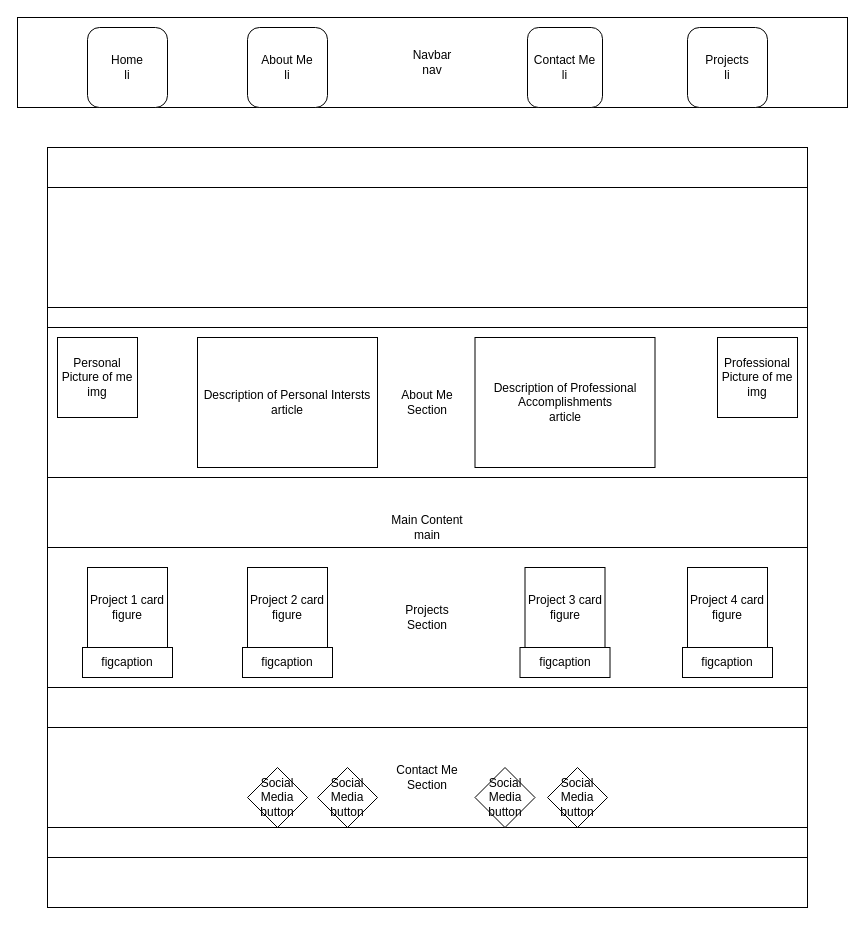
Some shapes in this 865 by 925 pixel diagram are drawn without their labels. Here are the shapes that lost their labels. From the top down, the centre of each, then its label:
At point (427, 247): "Home / Hero Image Header".
At point (427, 882): "Footer".
